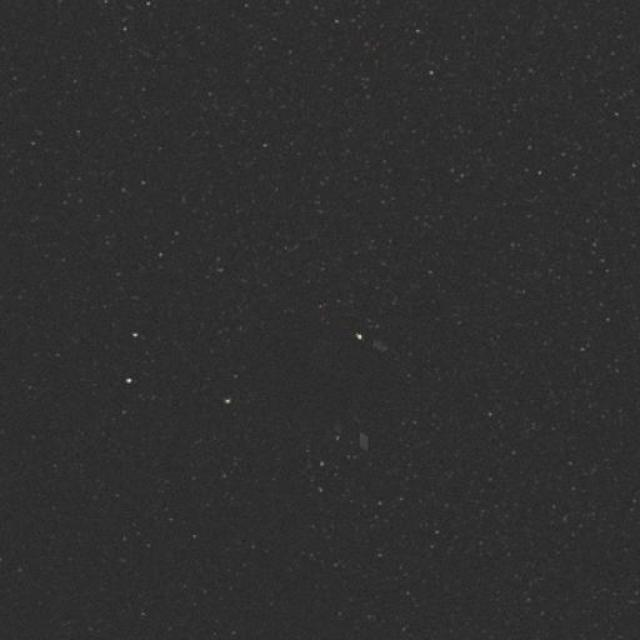proba_3_ocs: (277, 272, 422, 462)
